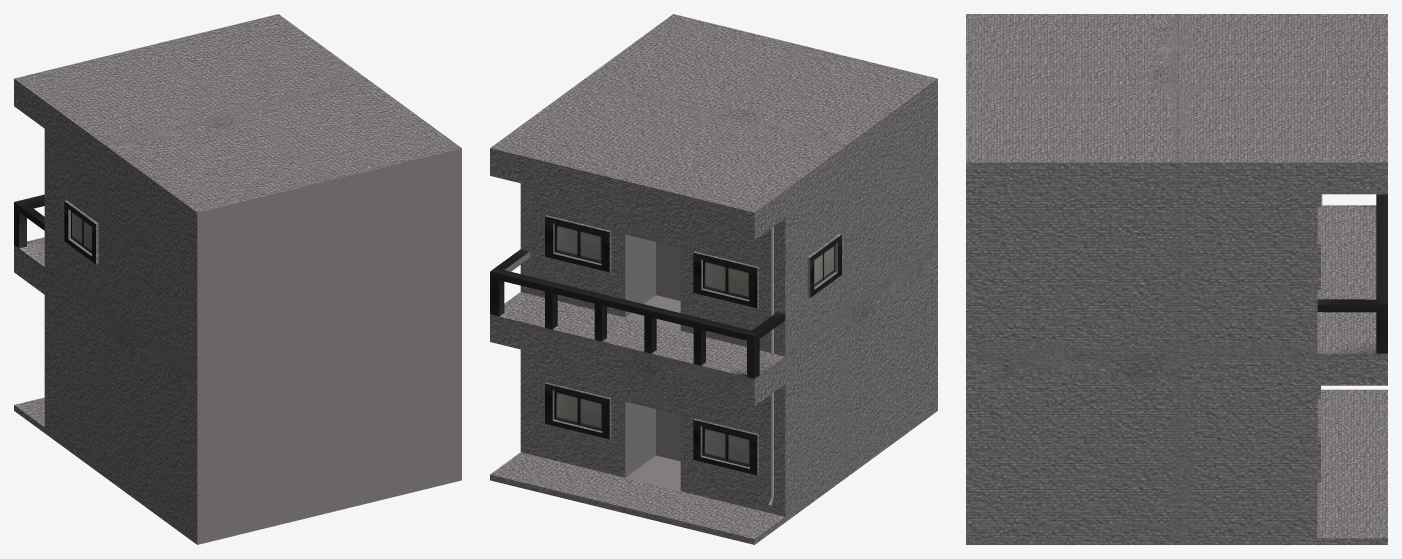
The model's file is House_1.fbx.
The picture shows the model from 3 angles, left to right: view 1: azimuth 30°, elevation 25°; view 2: azimuth 150°, elevation 25°; view 3: azimuth 270°, elevation 25°; orthographic projection. The views are drawn at different scales.
Visible parts, largest first — view 1: polySurface2; view 2: polySurface2; view 3: polySurface2.
Boxes of the visible parts, x1,y1,x2,y2 form: polySurface2: [14, 14, 461, 544]; polySurface2: [490, 14, 937, 544]; polySurface2: [966, 14, 1387, 544].
Bounding box in the file's own units: 10.1 × 12 × 12.
2 materials, 1 textured.
